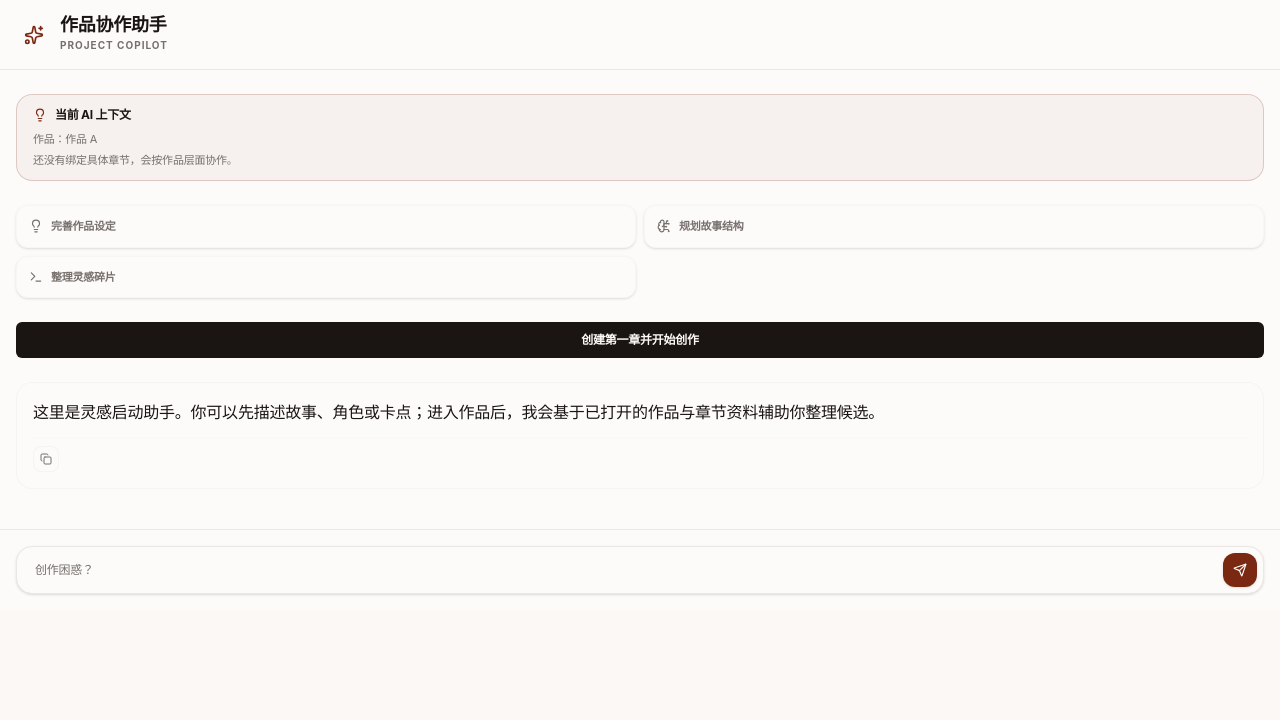
AIAssistant general session › 空字符串响应显示结构化的人话诊断信息
Type "请求灵感" into the field with placeholder "创作困惑？" at {"x": 619, "y": 570}, box [23,554,1215,586]
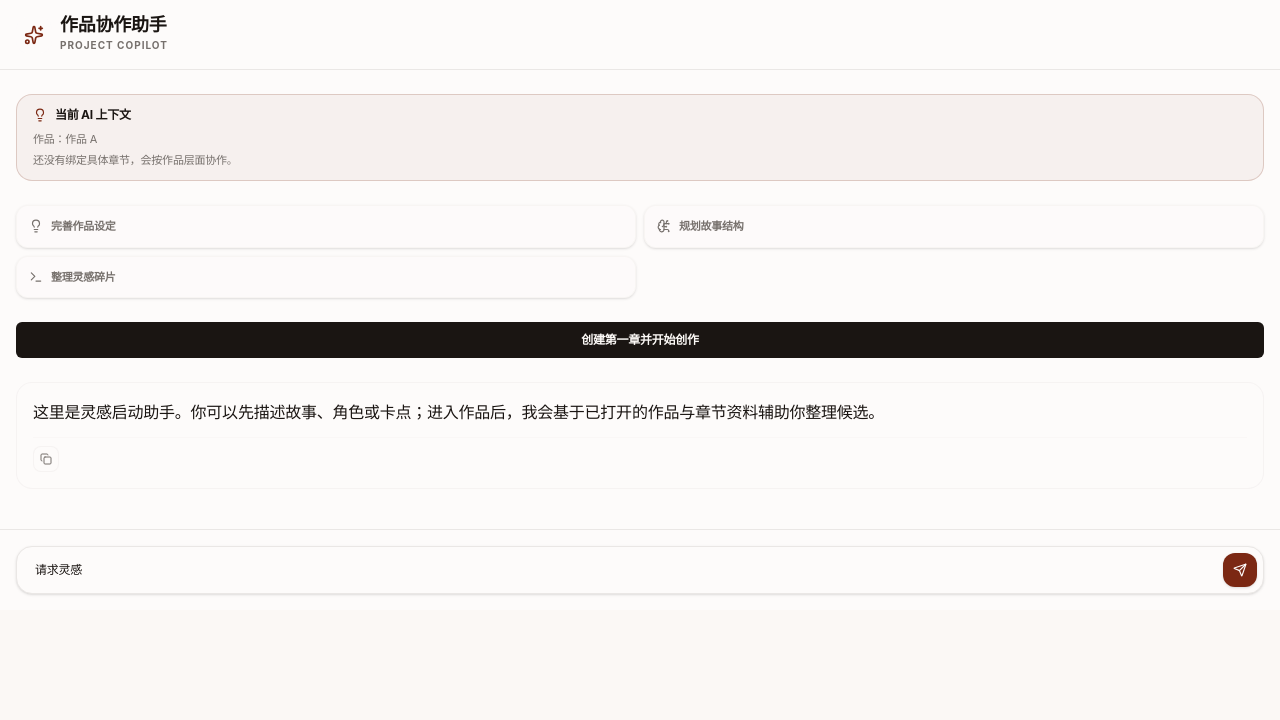
Click the button named "发送消息" at {"x": 1240, "y": 570}, box [1223,553,1257,587]
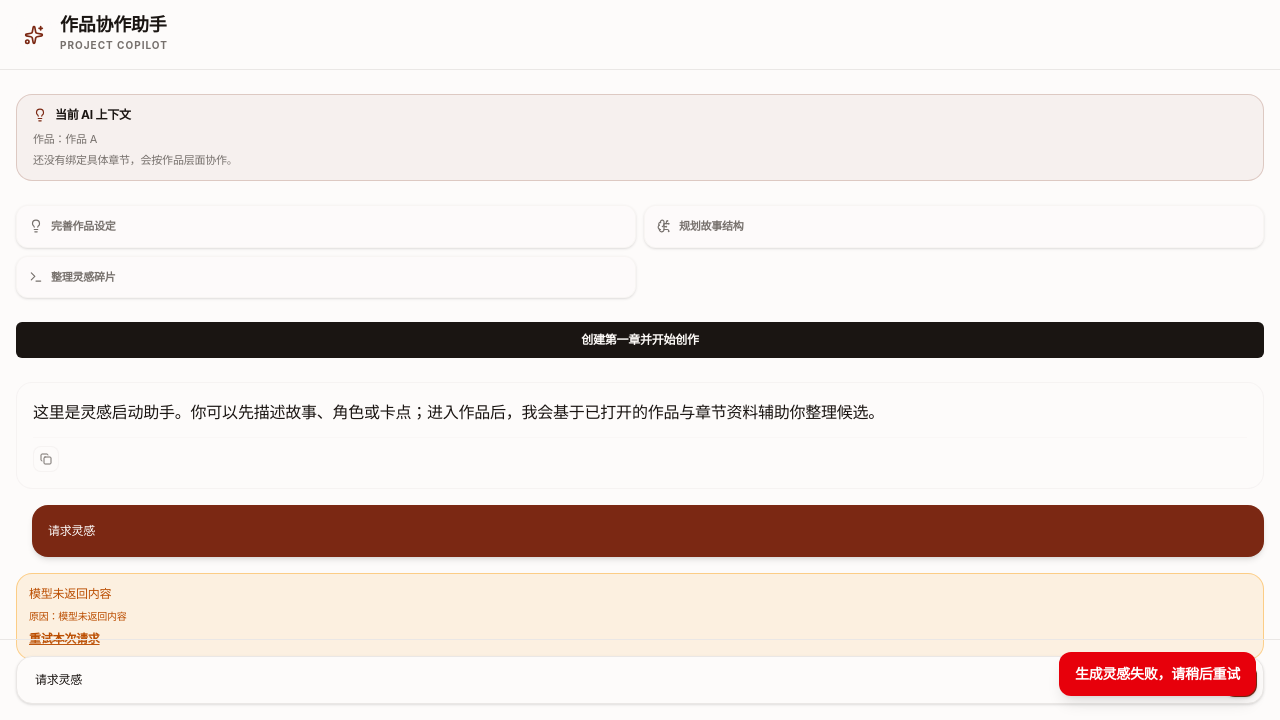
Expected: the message named "助手请求失败" shows "模型未返回内容", [29,586,111,600]
